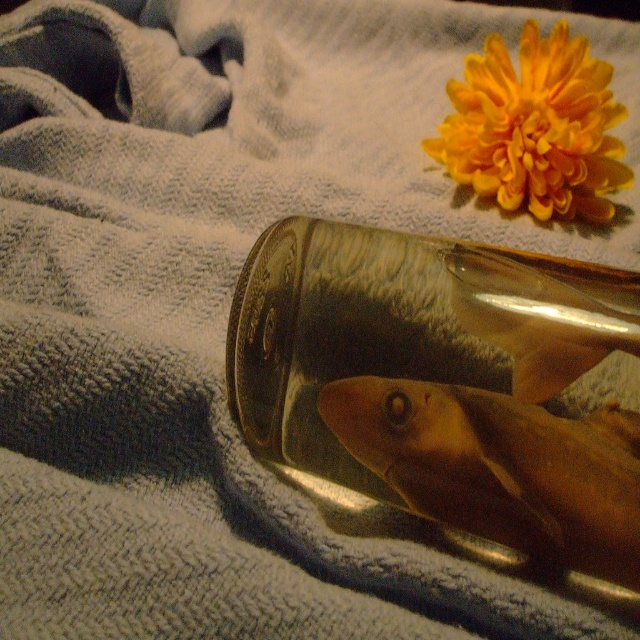Fish: (314, 376, 640, 568), (452, 258, 640, 404)
